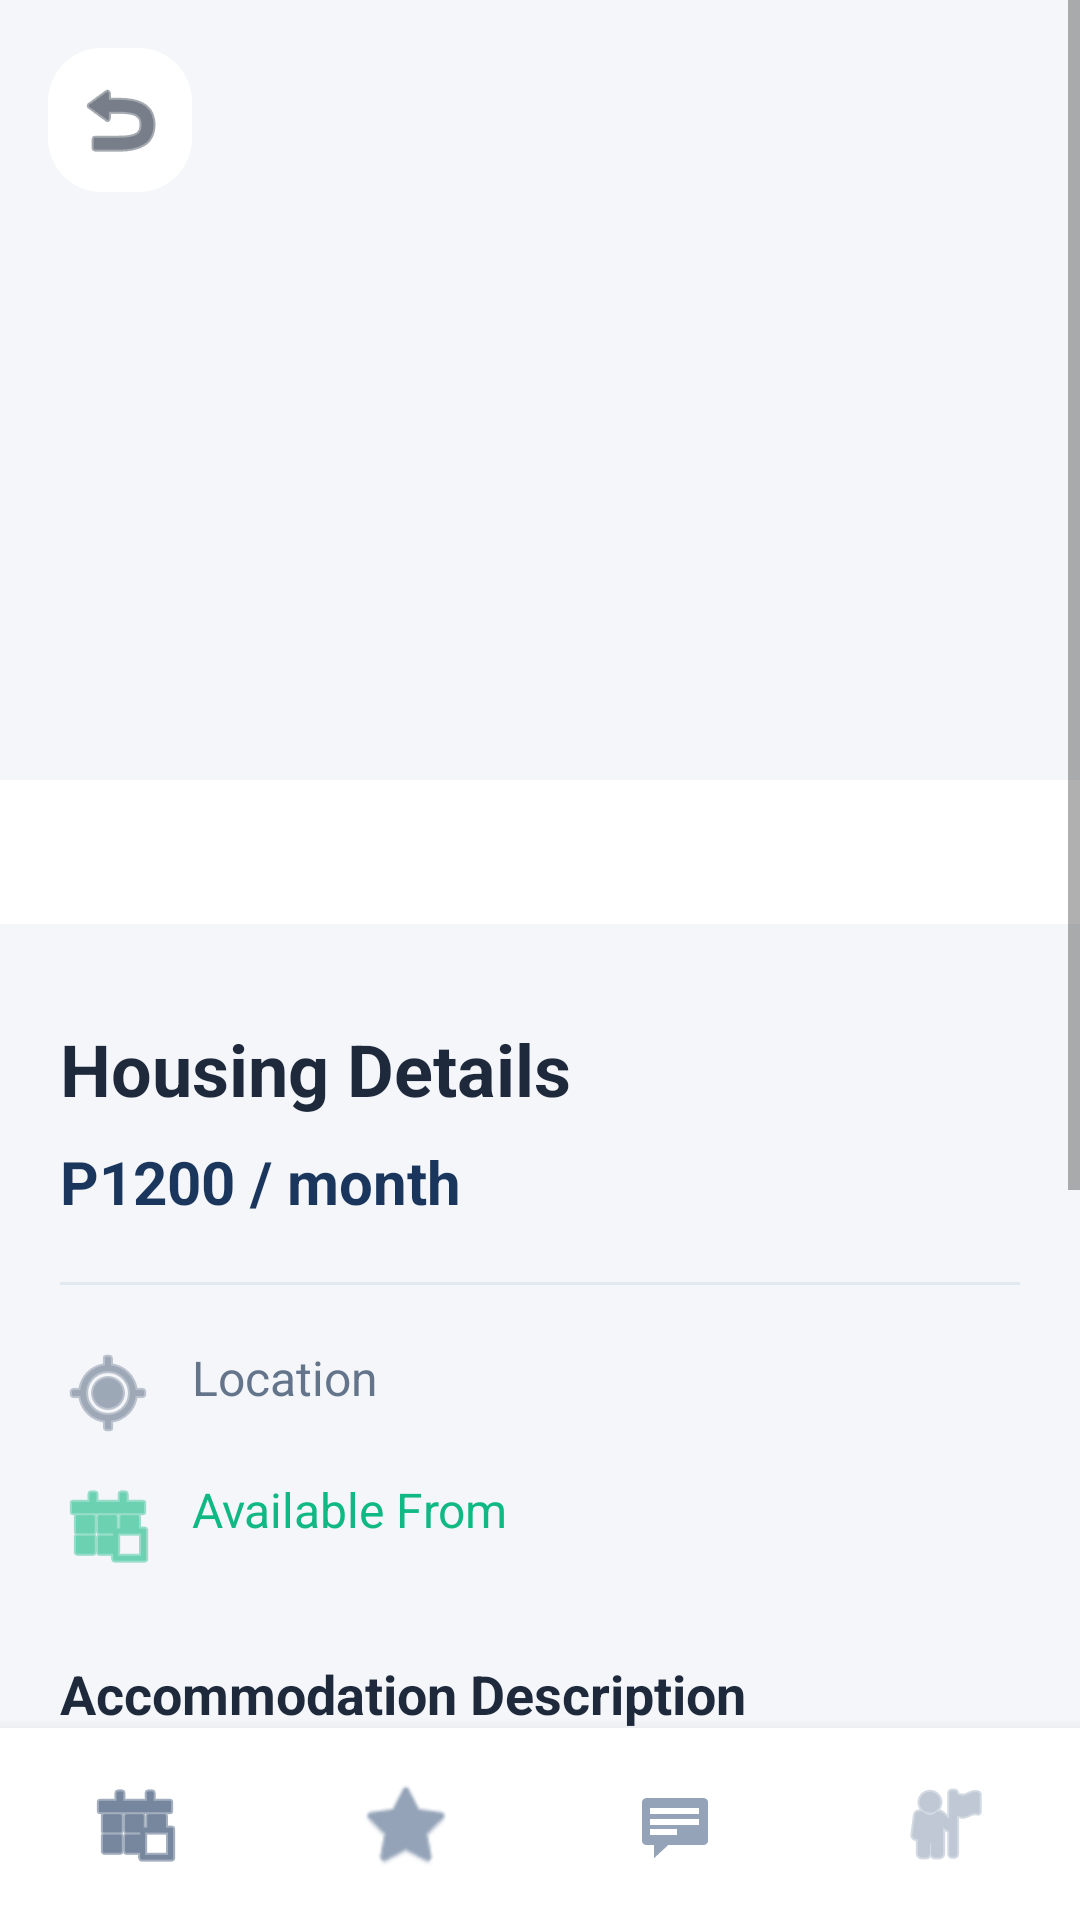

Point at icon controls on the screen. Image size 1080*1920, points as (x,y).
Back: (121,121)
Chat: (675,1828)
Profile: (946,1824)
Saved: (406,1825)
